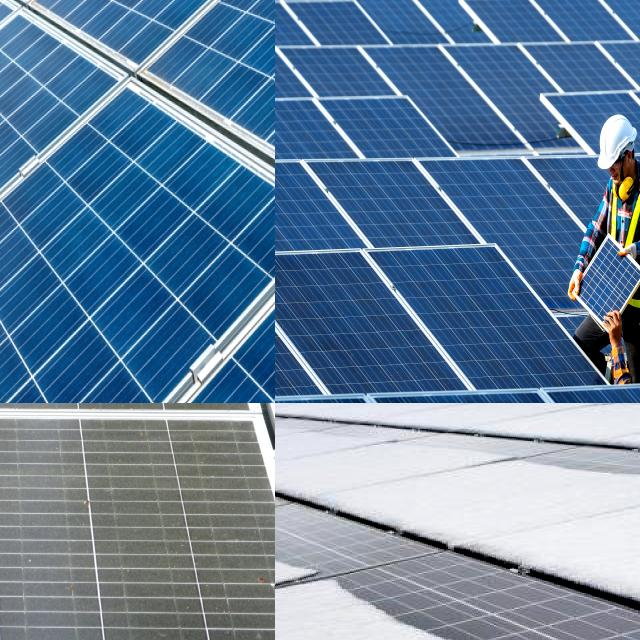crack: (0, 0, 275, 403), (0, 403, 275, 640), (358, 231, 620, 403), (429, 145, 622, 336), (275, 250, 477, 403), (304, 144, 478, 266), (275, 153, 392, 300), (322, 96, 474, 177), (275, 254, 337, 403), (275, 82, 363, 183)
panel: (424, 474, 598, 607), (436, 403, 589, 475), (276, 541, 390, 634), (290, 468, 412, 546), (348, 403, 455, 458), (582, 418, 640, 498), (372, 610, 520, 640), (452, 403, 620, 421), (278, 403, 352, 436)
